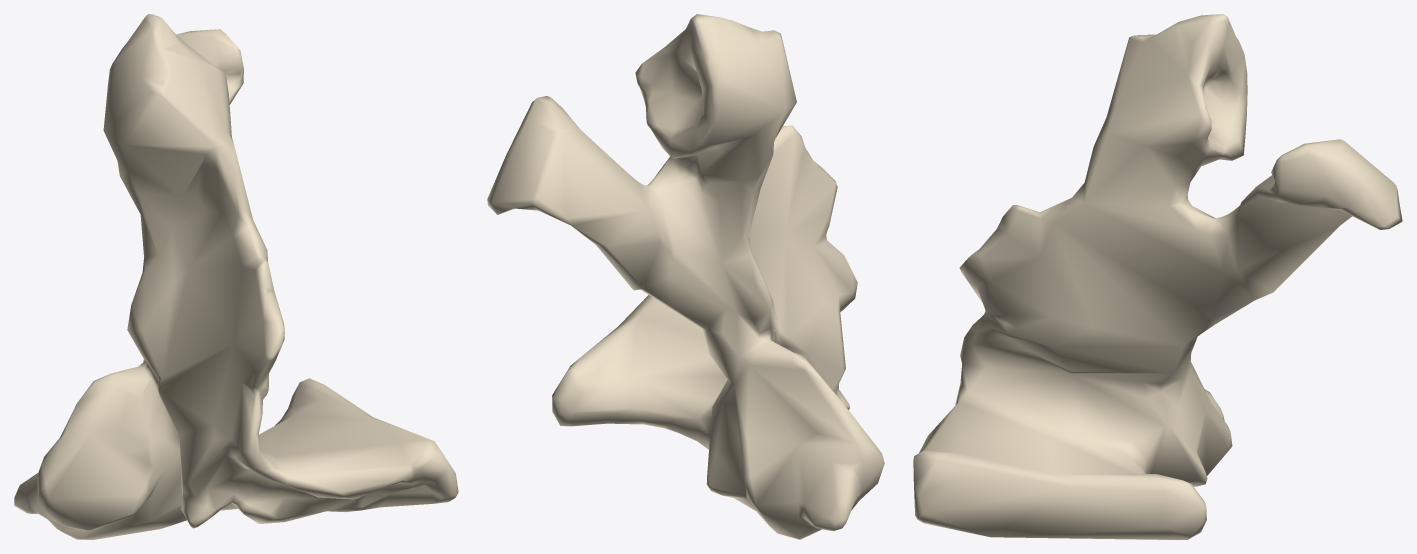
Rendered from palatine-bone-r.glb.
The picture shows the model from 3 angles, left to right: view 1: azimuth 30°, elevation 25°; view 2: azimuth 150°, elevation 25°; view 3: azimuth 270°, elevation 25°; orthographic projection. The views are drawn at different scales.
Parts seen in each view (by area): view 1: Palatine bone.r; view 2: Palatine bone.r; view 3: Palatine bone.r.
Part boxes in pixels (bbox=[...]): Palatine bone.r: bbox=[14, 14, 458, 539]; Palatine bone.r: bbox=[487, 14, 884, 539]; Palatine bone.r: bbox=[913, 14, 1402, 539].
Size of the model in its own units: 0.0263 by 0.0402 by 0.0352.
